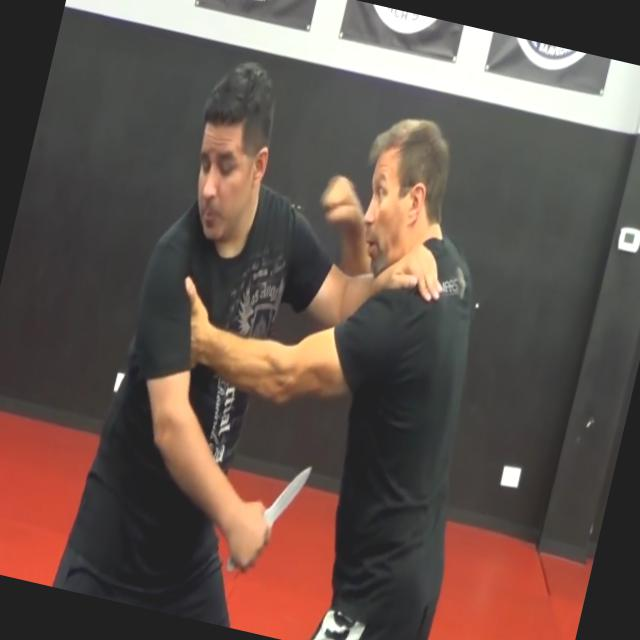knife: (219, 442, 315, 589)
